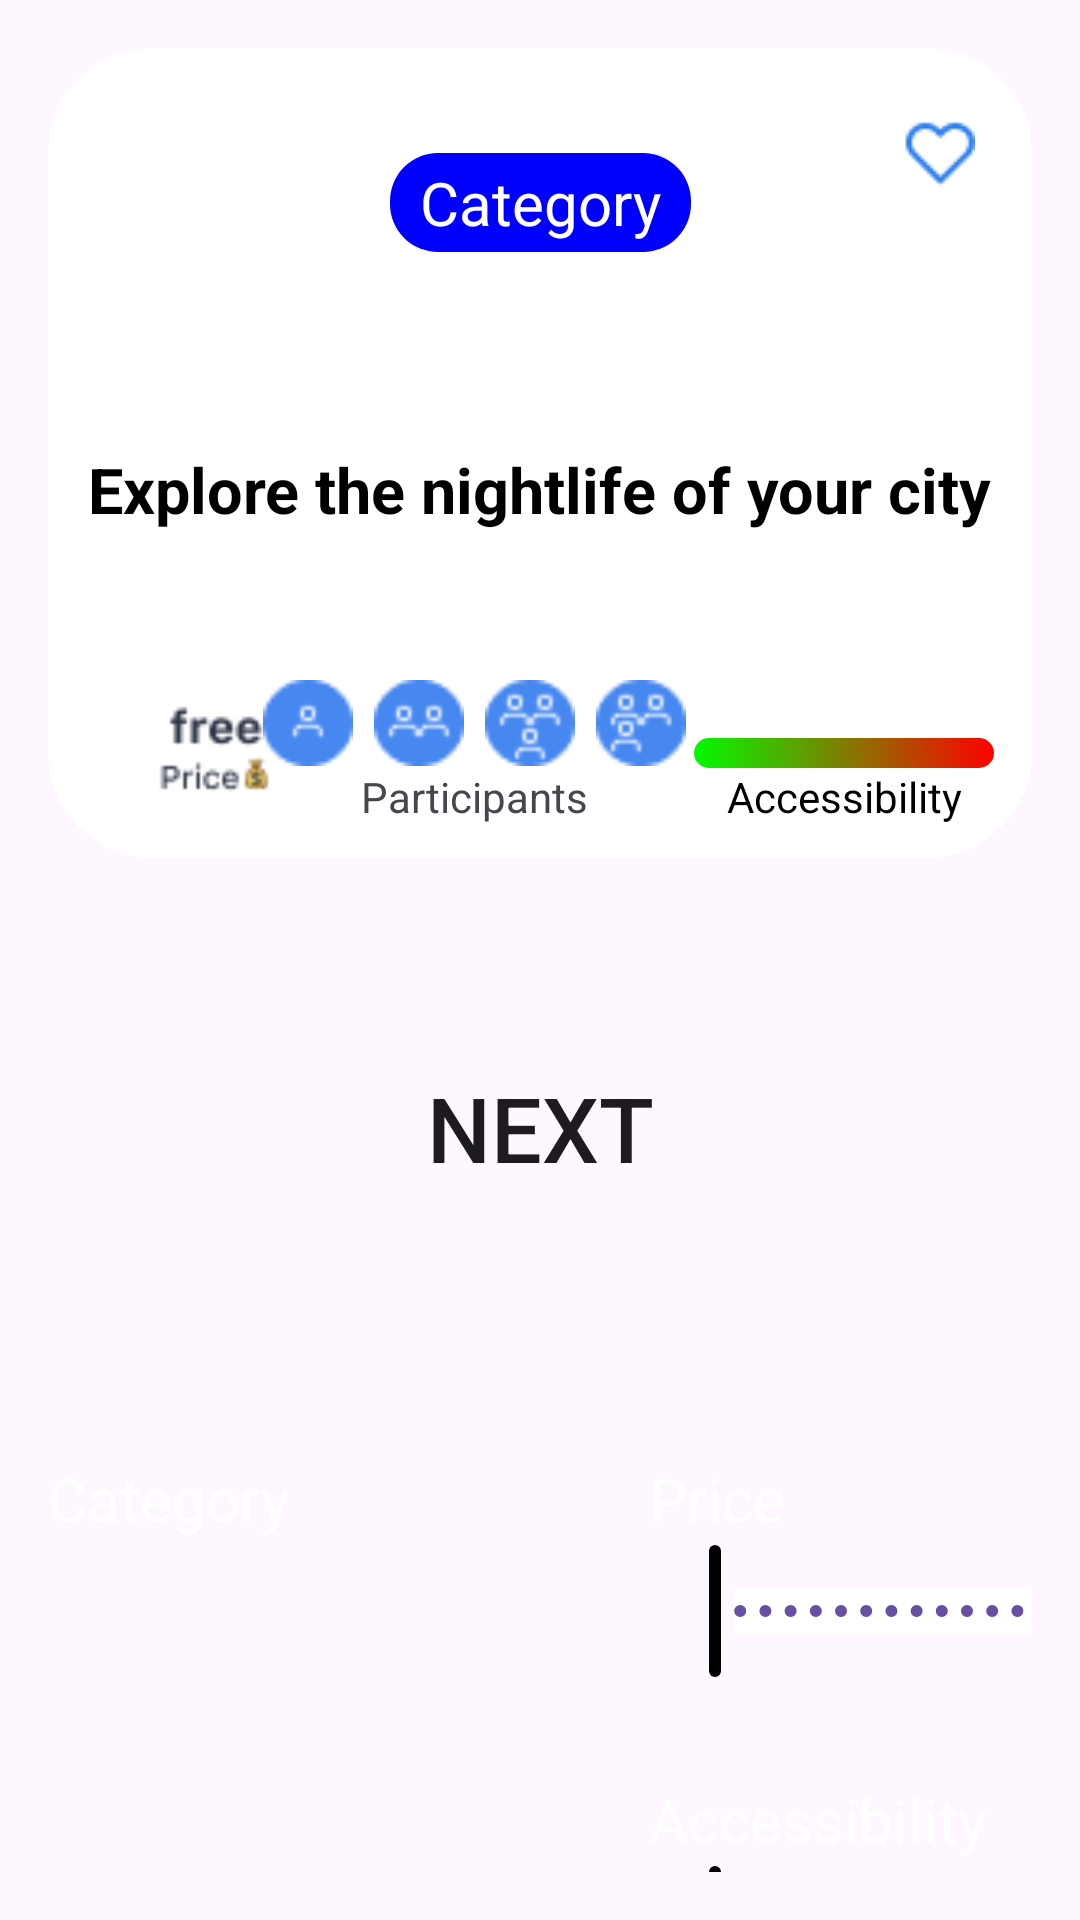

Icon click points for this 1080 x 1920 phone screenshot, format (x=x, y=y):
heart: (x=940, y=154)
